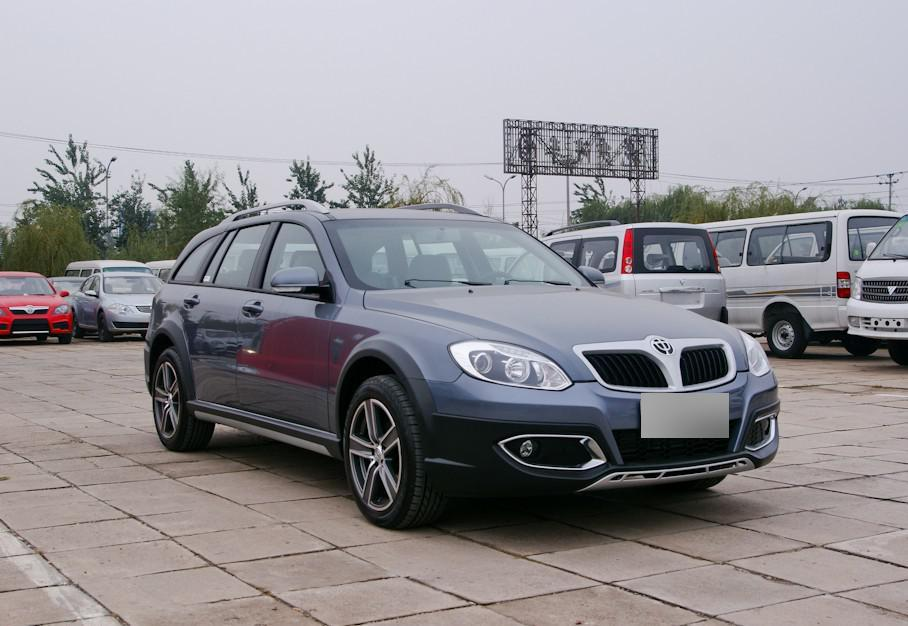Wagon: (146, 204, 782, 532)
